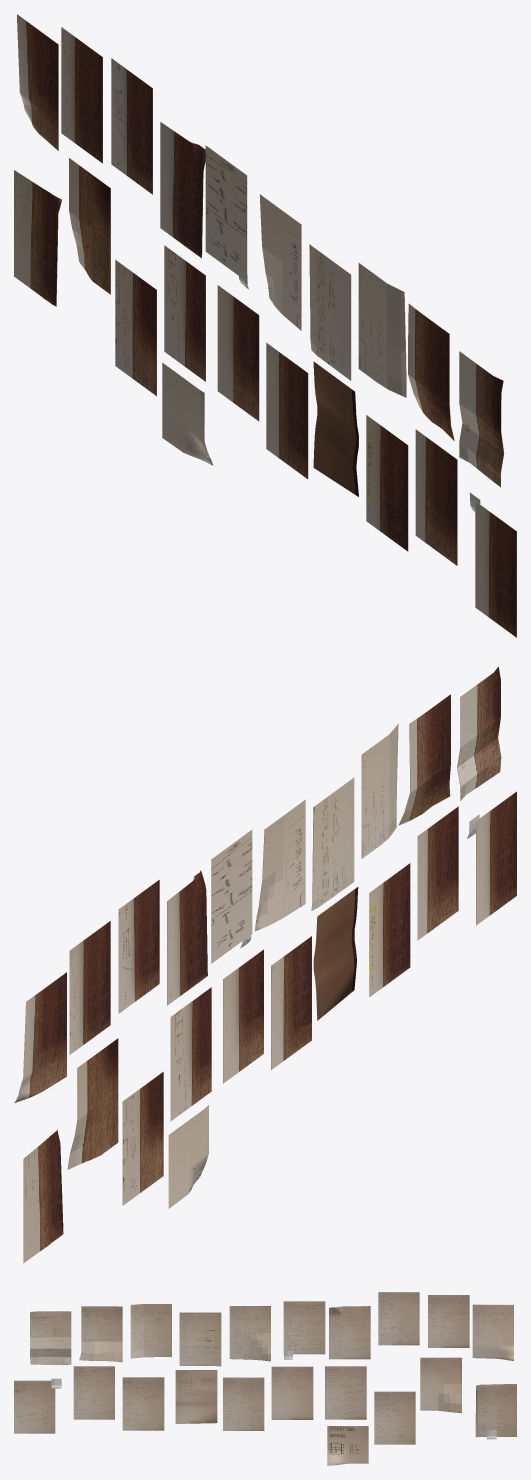
The model's file is Posters_all.fbx.
3 renders of one model, top to bottom at view 1: azimuth 30°, elevation 25°; view 2: azimuth 150°, elevation 25°; view 3: azimuth 270°, elevation 25°, orthographic. The views are drawn at different scales.
Parts seen in each view (by area): view 1: Cube.002, Cube.010, Cube.006, Cube.018, Cube.017, Cube.005, Cube.015, Cube.014, Cube, Cube.016, Cube.003, Cube.007 (+9 smaller); view 2: Cube.004, Cube.011, Cube.009, Cube.003, Cube.018, Cube.012, Cube.005, Cube.007, Cube.008, Cube.017, Cube.013, Cube.019 (+9 smaller); view 3: Cube.001, Cube.009, Cube.003, Cube.017, Cube.014, Cube.016, Cube.011, Cube.005, Cube.004, Cube.007, Cube.018, Cube.013 (+9 smaller).
Boxes of the visible parts, bbox=[...] form: Cube.002: bbox=[358, 263, 406, 397]; Cube.010: bbox=[14, 170, 61, 306]; Cube.006: bbox=[160, 122, 205, 258]; Cube.018: bbox=[415, 429, 457, 565]; Cube.017: bbox=[366, 415, 408, 551]; Cube.005: bbox=[205, 145, 247, 281]; Cube.015: bbox=[266, 342, 308, 478]; Cube.014: bbox=[217, 285, 259, 421]; Cube: bbox=[459, 351, 504, 487]; Cube.016: bbox=[313, 361, 358, 496]; Cube.003: bbox=[309, 244, 351, 380]; Cube.007: bbox=[111, 58, 152, 194]; Cube.004: bbox=[255, 799, 305, 931]; Cube.011: bbox=[67, 1038, 118, 1169]; Cube.009: bbox=[14, 972, 66, 1103]; Cube.003: bbox=[311, 777, 354, 910]; Cube.018: bbox=[417, 806, 458, 940]; Cube.012: bbox=[122, 1071, 163, 1205]; Cube.005: bbox=[211, 830, 252, 963]; Cube.007: bbox=[118, 879, 159, 1013]; Cube.008: bbox=[69, 921, 110, 1054]; Cube.017: bbox=[369, 863, 410, 996]; Cube.013: bbox=[170, 987, 211, 1120]; Cube.019: bbox=[476, 791, 516, 925]; Cube.001: bbox=[79, 1306, 122, 1362]; Cube.009: bbox=[472, 1304, 513, 1360]; Cube.003: bbox=[179, 1312, 221, 1366]; Cube.017: bbox=[122, 1377, 164, 1430]; Cube.014: bbox=[271, 1366, 313, 1419]; Cube.016: bbox=[175, 1370, 217, 1423]; Cube.011: bbox=[420, 1357, 461, 1413]; Cube.005: bbox=[283, 1301, 325, 1354]; Cube.004: bbox=[229, 1306, 270, 1361]; Cube.007: bbox=[378, 1292, 419, 1345]; Cube.018: bbox=[73, 1366, 114, 1419]; Cube.013: bbox=[325, 1366, 366, 1419].
Bounding box in the file's own units: 7.41 × 191 × 509.
